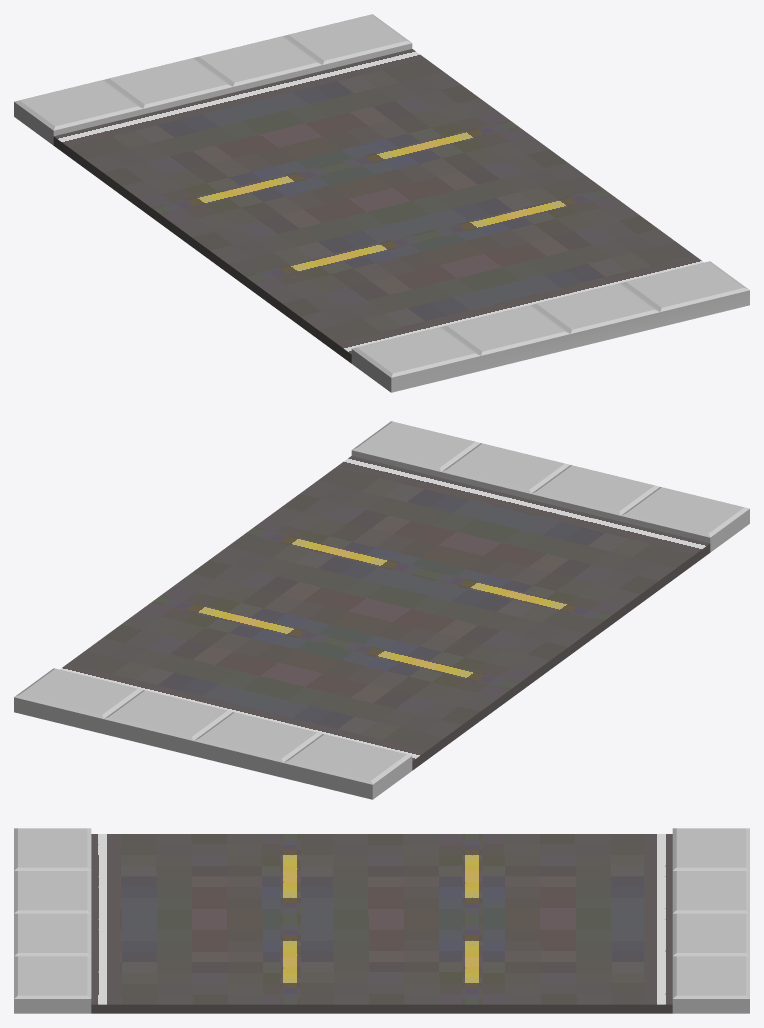
Rendered from road_straight_edit.obj.
The picture shows the model from 3 angles, top to bottom: view 1: azimuth 30°, elevation 25°; view 2: azimuth 150°, elevation 25°; view 3: azimuth 270°, elevation 25°; orthographic projection. The views are drawn at different scales.
Parts seen in each view (by area): view 1: straight1-col.001; view 2: straight1-col.001; view 3: straight1-col.001.
Boxes of the visible parts, x1,y1,x2,y2 form: straight1-col.001: (14, 14, 749, 392); straight1-col.001: (14, 421, 749, 799); straight1-col.001: (14, 828, 749, 1013).
Bounding box in the file's own units: 10 × 0.45 × 18.21.
